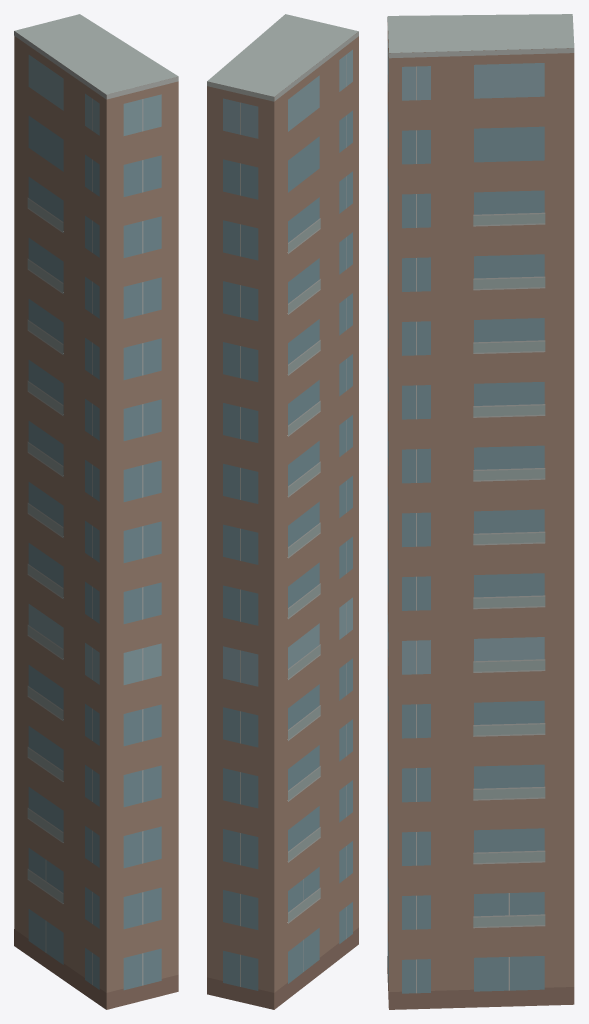
Rendered from survey-upis-32710805.glb.
3 renders of one model, left to right at view 1: azimuth 30°, elevation 25°; view 2: azimuth 150°, elevation 25°; view 3: azimuth 270°, elevation 25°, orthographic. The views are drawn at different scales.
Visible parts, largest first — view 1: survey-upis-32710805.tmp; view 2: survey-upis-32710805.tmp; view 3: survey-upis-32710805.tmp.
Boxes of the visible parts, box(x1,y1,x2,y2) form: survey-upis-32710805.tmp: box(14, 14, 178, 1009); survey-upis-32710805.tmp: box(207, 14, 358, 1009); survey-upis-32710805.tmp: box(387, 14, 574, 1009).
Bounding box in the file's own units: 4.03 × 45.75 × 8.11.
